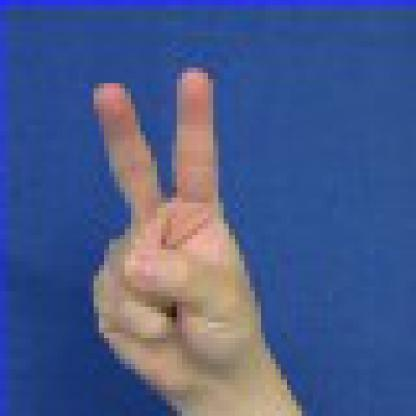two: (74, 56, 274, 416)
